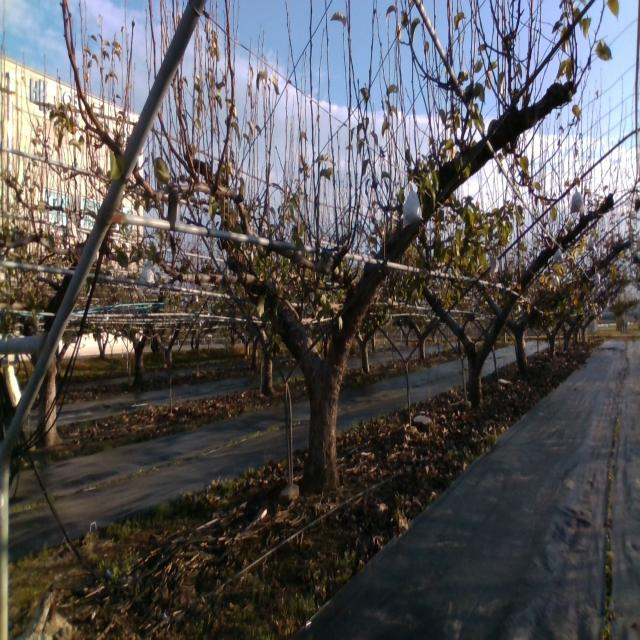pearbags: (401, 184, 423, 227), (569, 186, 585, 214)
